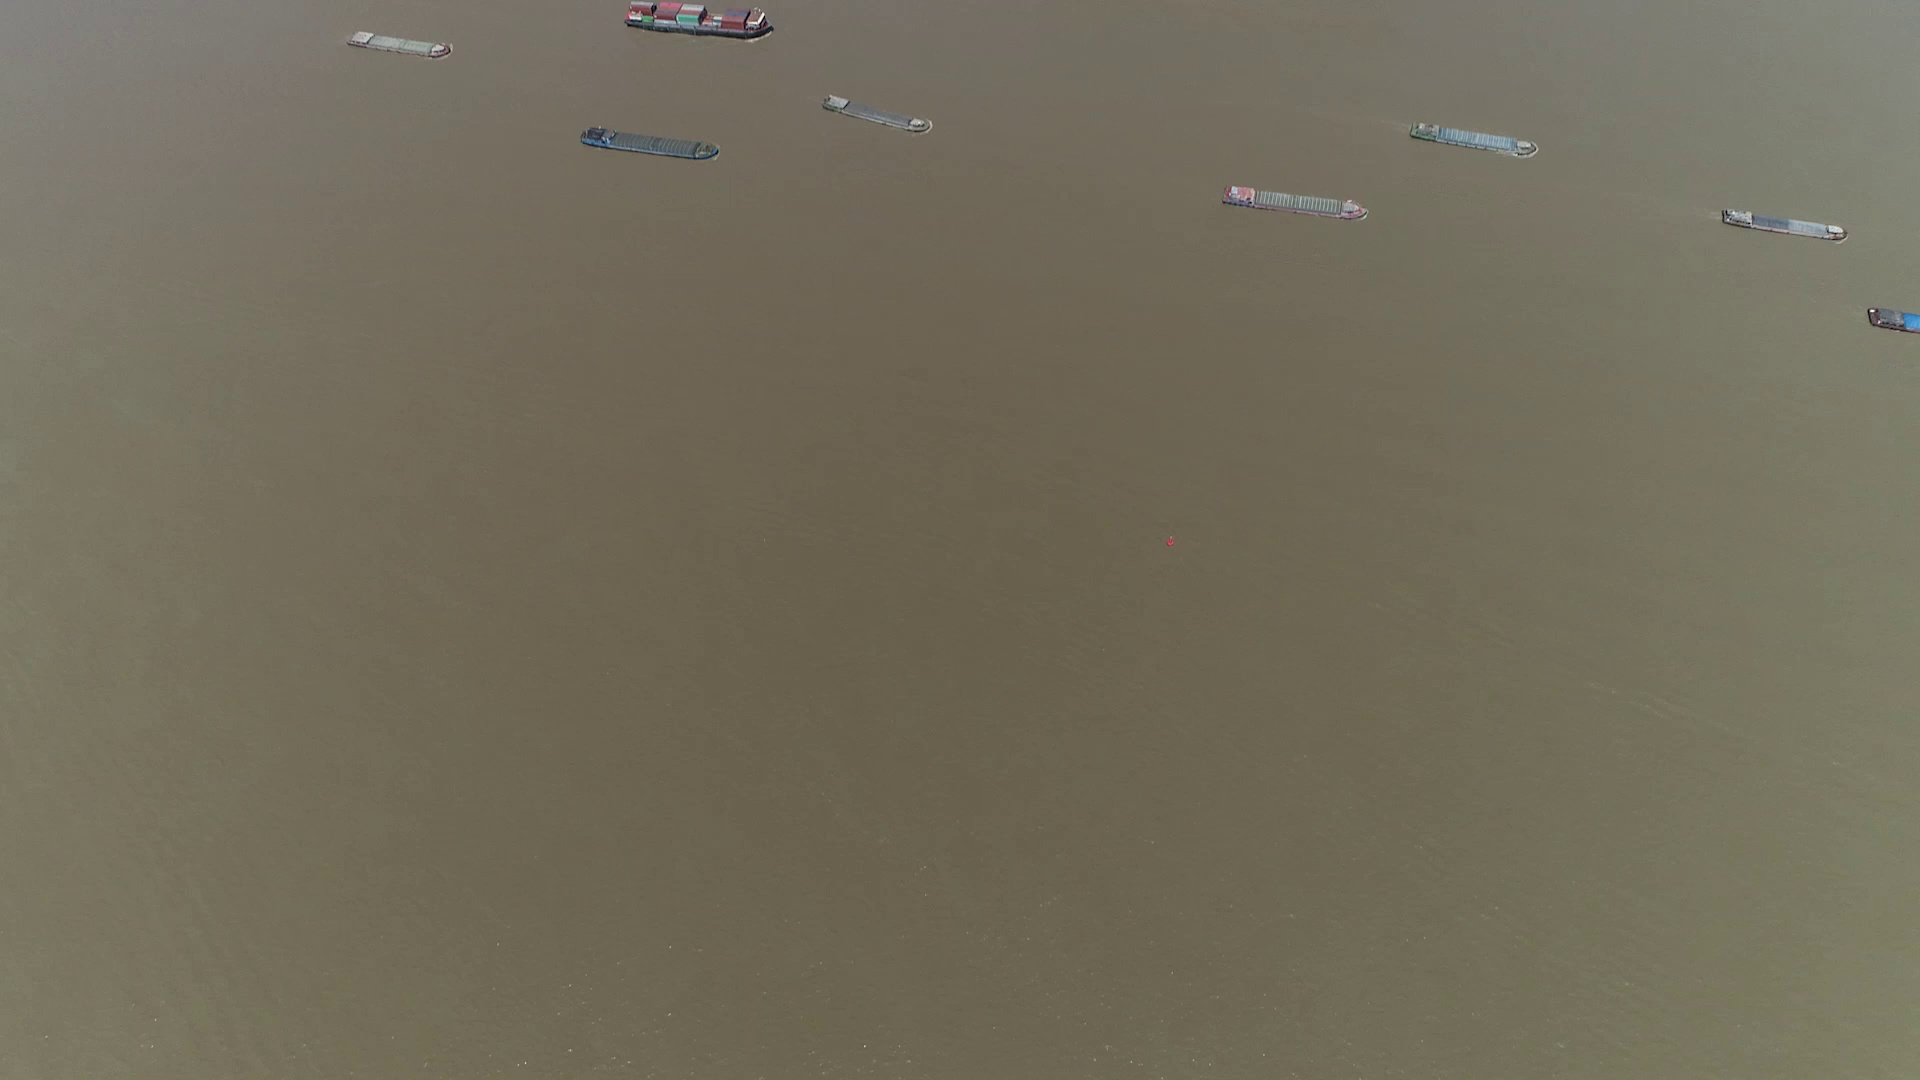ship: (625, 1, 778, 37), (579, 127, 720, 160), (1222, 185, 1364, 218), (1410, 121, 1538, 157), (822, 96, 932, 133), (1722, 208, 1845, 237), (348, 30, 454, 57), (1865, 305, 1917, 336)
